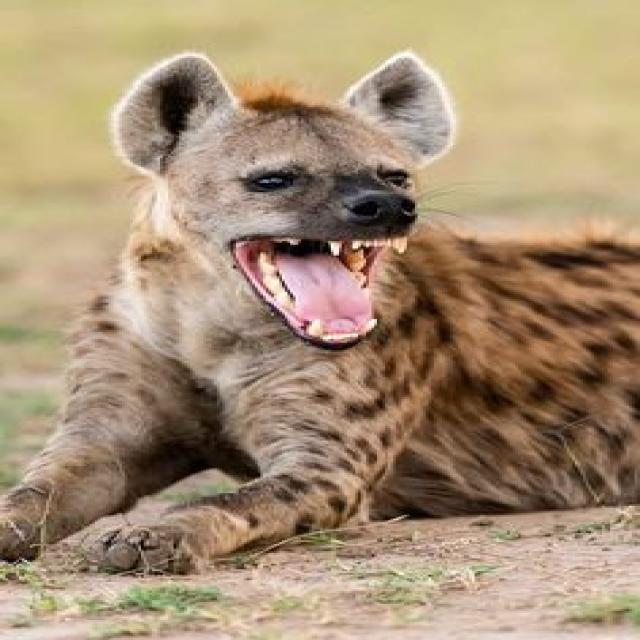Carnivorous: (0, 51, 640, 571)
